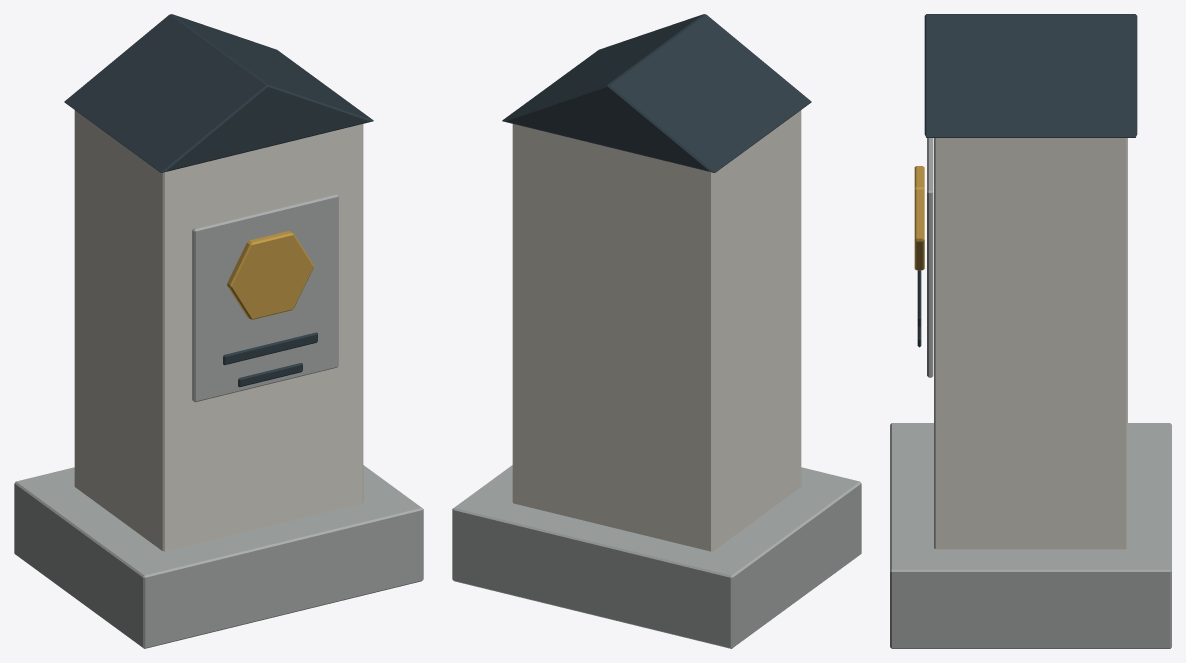
The model's file is b18_carved_boundary_milestone.glb.
3 renders of one model, left to right at view 1: azimuth 30°, elevation 25°; view 2: azimuth 150°, elevation 25°; view 3: azimuth 270°, elevation 25°, orthographic. The views are drawn at different scales.
Parts seen in each view (by area): view 1: b18_carved_boundary_milestone; view 2: b18_carved_boundary_milestone; view 3: b18_carved_boundary_milestone.
Boxes of the visible parts, box(x1,y1,x2,y2) form: b18_carved_boundary_milestone: box(14, 14, 423, 648); b18_carved_boundary_milestone: box(452, 14, 861, 648); b18_carved_boundary_milestone: box(890, 14, 1171, 648).
Size of the model in its own units: 0.56 by 0.9885 by 0.45.
